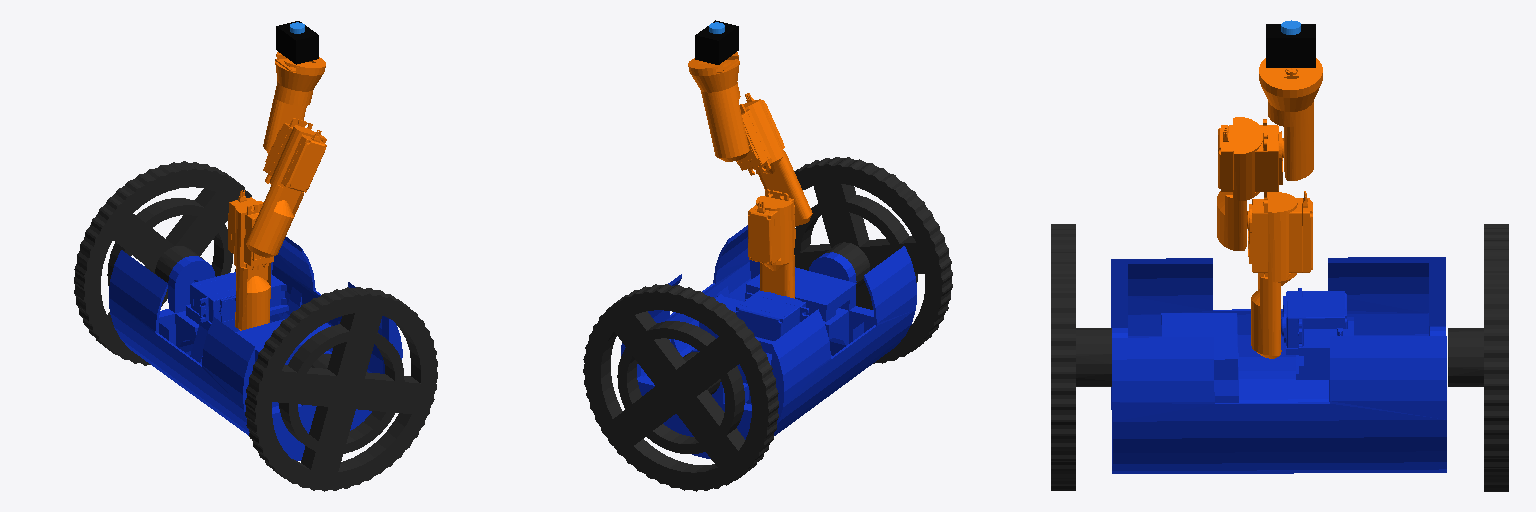
The robot description file, URDF, robot "Assem1":
<robot name="Assem1">

  <link name="base_link"/>

  <joint name="base_to_body" type="fixed">
    <parent link="base_link"/>
    <child link="body"/>
    <origin xyz="0 0 0.05" rpy="0 0 0"/>
  </joint>

  <!-- IMU link: aligned with base_link (x forward, y left, z up) so pitch = rotation about y -->
  <link name="imu_link"/>
  <joint name="base_to_imu" type="fixed">
    <parent link="base_link"/>
    <child link="imu_link"/>
    <origin xyz="0 0 0.05" rpy="0 0 0"/>
  </joint>

  <!-- body is UPRIGHT (CAD frame: z up, arm on top). Wheel axle at z 0.0815.
       Ballast / battery (INVISIBLE, mass only): 2 x 0.25 kg packs left and right of the arm, centre 20 cm up -> centre of mass
       5.2 cm ABOVE the axle and right above it in the camera pose (see robot_model.py) -->
  <link name="ballast_left">
    <inertial>
      <origin xyz="0 0 0" rpy="0 0 0"/>
      <mass value="0.25"/>
      <inertia ixx="0.0001724" ixy="0" ixz="0" iyy="0.0002537" iyz="0" izz="0.0001854"/>
    </inertial>
  </link>
  <joint name="base_to_ballast_left" type="fixed">
    <parent link="base_link"/>
    <child link="ballast_left"/>
    <origin xyz="-0.009 0.07 0.20" rpy="0 0 0"/>
  </joint>
  <link name="ballast_right">
    <inertial>
      <origin xyz="0 0 0" rpy="0 0 0"/>
      <mass value="0.25"/>
      <inertia ixx="0.0001724" ixy="0" ixz="0" iyy="0.0002537" iyz="0" izz="0.0001854"/>
    </inertial>
  </link>
  <joint name="base_to_ballast_right" type="fixed">
    <parent link="base_link"/>
    <child link="ballast_right"/>
    <origin xyz="-0.009 -0.07 0.20" rpy="0 0 0"/>
  </joint>

  <!-- ==================== BODY ==================== -->
  <link name="body">
    <inertial>
      <origin xyz="-0.00063 -3.188e-05 0.00754" rpy="0 0 0" />
      <mass value="0.5231" />
      <inertia
        ixx="0.002215" ixy="8.565e-06" ixz="-8.353e-06"
        iyy="0.000817" iyz="-6.060e-06" izz="0.002583" />
    </inertial>
    <visual>
      <origin xyz="0 0 0" rpy="0 0 0" />
      <geometry>
        <mesh filename="package://Assem1/meshes/body.STL" />
      </geometry>
      <material name="body_mat">
        <color rgba="0.1 0.25 0.85 1.0" />
      </material>
    </visual>
    <!-- bottom of the box raised from 7 cm to 4 cm below the axle (wheel radius 8 cm): the full mesh box
         hits the floor at ~9 deg lean and trips the robot. Now it only touches at ~50 deg. -->
    <collision>
      <origin xyz="-0.0007 0 0.03175" rpy="0 0 0" />
      <geometry>
        <box size="0.141 0.196 0.0805" />
      </geometry>
    </collision>
  </link>

  <!-- ==================== LEFT WHEEL ==================== -->
  <link name="left_wheel">
    <inertial>
      <origin xyz="0 0 -0.00895" rpy="0 0 0" />
      <mass value="0.2257" />
      <inertia
        ixx="0.000361" ixy="0" ixz="0"
        iyy="0.000361" iyz="0" izz="0.000702" />
    </inertial>
    <visual>
      <origin xyz="0 0 0" rpy="0 0 0" />
      <geometry>
        <mesh filename="package://Assem1/meshes/left_wheel.STL" />
      </geometry>
      <material name="left_wheel_mat">
        <color rgba="0.2 0.2 0.2 1.0" />
      </material>
    </visual>
    <collision>
      <origin xyz="0 0 -0.018" rpy="0 0 0" />
      <geometry>
        <cylinder radius="0.08" length="0.036" />
      </geometry>
    </collision>
  </link>

  <joint name="left_wheel-joint" type="continuous">
    <origin xyz="0 -0.1366 0.0315" rpy="1.5708 0 0" />
    <parent link="body" />
    <child link="left_wheel" />
    <axis xyz="0 0 -1" />
    <limit effort="20.0" velocity="40.0" />
    <dynamics damping="0.001" friction="0.0" />
  </joint>

  <!-- ==================== RIGHT WHEEL ==================== -->
  <link name="right_wheel">
    <inertial>
      <origin xyz="0 0 -0.00895" rpy="0 0 0" />
      <mass value="0.2257" />
      <inertia
        ixx="0.000361" ixy="0" ixz="0"
        iyy="0.000361" iyz="0" izz="0.000702" />
    </inertial>
    <visual>
      <origin xyz="0 0 0" rpy="0 0 0" />
      <geometry>
        <mesh filename="package://Assem1/meshes/right_wheel.STL" />
      </geometry>
      <material name="right_wheel_mat">
        <color rgba="0.2 0.2 0.2 1.0" />
      </material>
    </visual>
    <collision>
      <origin xyz="0 0 -0.018" rpy="0 0 0" />
      <geometry>
        <cylinder radius="0.08" length="0.036" />
      </geometry>
    </collision>
  </link>

  <joint name="right_wheel_joint" type="continuous">
    <origin xyz="0 0.1366 0.0315" rpy="-1.5708 0 0" />
    <parent link="body" />
    <child link="right_wheel" />
    <axis xyz="0 0 1" />
    <limit effort="20.0" velocity="40.0" />
    <dynamics damping="0.001" friction="0.0" />
  </joint>

  <!-- ==================== ACTIVE ARM (REVOLUTE) ==================== -->
  <link name="arm_link_1">
    <inertial>
      <origin xyz="0.00043 -0.00280 0.04227" rpy="0 0 0" />
      <mass value="0.0549" />
      <inertia
        ixx="2.346e-05" ixy="0" ixz="0"
        iyy="2.167e-05" iyz="-1.423e-06" izz="6.846e-06" />
    </inertial>
    <visual>
      <origin xyz="0 0 0" rpy="0 0 0" />
      <geometry>
        <mesh filename="package://Assem1/meshes/arm_link_1.STL" />
      </geometry>
      <material name="arm_mat1">
        <color rgba="1.0 0.5 0.05 1.0" />
      </material>
    </visual>
  </link>

  <joint name="link1" type="revolute">
    <origin xyz="-0.0047285 0.00080999 0.049815" rpy="0 0 0" />
    <parent link="body" />
    <child link="arm_link_1" />
    <axis xyz="0.0065584 -0.99997 -0.0030051" />
    <limit lower="-1.57" upper="1.57" effort="5.0" velocity="4.0" />
    <dynamics damping="0.1" friction="0.05" />
  </joint>

  <link name="arm_link_2">
    <inertial>
      <origin xyz="0.01828 -0.00142 0.03751" rpy="0 0 0" />
      <mass value="0.0549" />
      <inertia
        ixx="2.012e-05" ixy="-6.781e-07" ixz="-6.665e-06"
        iyy="2.166e-05" iyz="-1.377e-06" izz="1.020e-05" />
    </inertial>
    <visual>
      <origin xyz="0 0 0" rpy="0 0 0" />
      <geometry>
        <mesh filename="package://Assem1/meshes/arm_link_2.STL" />
      </geometry>
      <material name="arm_mat2">
        <color rgba="1.0 0.5 0.05 1.0" />
      </material>
    </visual>
  </link>

  <joint name="link2" type="revolute">
    <origin xyz="0.0016571 -0.020702 0.070511" rpy="0 0 0" />
    <parent link="arm_link_1" />
    <child link="arm_link_2" />
    <axis xyz="0.0065584 -0.99997 -0.0030051" />
    <limit lower="-1.57" upper="1.57" effort="5.0" velocity="4.0" />
    <dynamics damping="0.1" friction="0.05" />
  </joint>

  <link name="arm_link_3">
    <inertial>
      <origin xyz="0.00815 0.00521 0.02824" rpy="0 0 0" />
      <mass value="0.0375" />
      <inertia
        ixx="1.893e-05" ixy="4.182e-07" ixz="-4.053e-06"
        iyy="2.032e-05" iyz="1.537e-06" izz="5.789e-06" />
    </inertial>
    <visual>
      <origin xyz="0 0 0" rpy="0 0 0" />
      <geometry>
        <mesh filename="package://Assem1/meshes/arm_link_3.STL" />
      </geometry>
      <material name="arm_mat3">
        <color rgba="1.0 0.5 0.05 1.0" />
      </material>
    </visual>
  </link>

  <joint name="link3" type="revolute">
    <origin xyz="0.031019 0.022517 0.062295" rpy="0 0 0" />
    <parent link="arm_link_2" />
    <child link="arm_link_3" />
    <axis xyz="-0.0065584 0.99997 0.0030051" />
    <limit lower="-1.57" upper="1.57" effort="3.0" velocity="4.0" />
    <dynamics damping="0.05" friction="0.02" />
  </joint>

  <!-- ==================== END-EFFECTOR CAMERA ==================== -->
  <!-- camera_link sits on the tip of arm_link_3 (mesh top: x 0.012, y 0.004, z 0.063) and looks along the
       link's +z axis (= the direction the end effector points; forward in the ARM_HOME camera pose).
       Gazebo cameras look along their +x, so pitch -90 deg maps camera x -> link z, and camera "up" -> robot up.
       Massless on purpose (lumped like imu_link): the trained balance policy stays valid. -->
  <link name="camera_link">
    <visual>
      <origin xyz="-0.01 0 0" rpy="0 0 0" />
      <geometry>
        <box size="0.02 0.03 0.02" />
      </geometry>
      <material name="camera_mat">
        <color rgba="0.05 0.05 0.05 1.0" />
      </material>
    </visual>
    <visual>
      <origin xyz="0.002 0 0" rpy="0 1.5708 0" />
      <geometry>
        <cylinder radius="0.006" length="0.004" />
      </geometry>
      <material name="lens_mat">
        <color rgba="0.2 0.6 1.0 1.0" />
      </material>
    </visual>
  </link>
  <joint name="arm_link_3_to_camera" type="fixed">
    <parent link="arm_link_3" />
    <child link="camera_link" />
    <origin xyz="0.012 0.004 0.083" rpy="0 -1.5708 0" />
  </joint>

  <!-- ROS optical frame convention (z forward, x right, y down) for the image header -->
  <link name="camera_optical_frame"/>
  <joint name="camera_to_optical" type="fixed">
    <parent link="camera_link" />
    <child link="camera_optical_frame" />
    <origin xyz="0 0 0" rpy="-1.5708 0 -1.5708" />
  </joint>

  <!-- ==================== GAZEBO PHYSICS ==================== -->
  <gazebo reference="body">
    <material>Gazebo/Blue</material>
  </gazebo>
  <gazebo reference="arm_link_1"><material>Gazebo/Orange</material></gazebo>
  <gazebo reference="arm_link_2"><material>Gazebo/Orange</material></gazebo>
  <gazebo reference="arm_link_3"><material>Gazebo/Orange</material></gazebo>

  <gazebo reference="left_wheel">
    <mu1>1.2</mu1>
    <mu2>1.2</mu2>
    <kp>200000.0</kp>
    <kd>10.0</kd>
    <minDepth>0.001</minDepth>
    <material>Gazebo/FlatBlack</material>
  </gazebo>

  <gazebo reference="right_wheel">
    <mu1>1.2</mu1>
    <mu2>1.2</mu2>
    <kp>200000.0</kp>
    <kd>10.0</kd>
    <minDepth>0.001</minDepth>
    <material>Gazebo/FlatBlack</material>
  </gazebo>

  

  <!-- IMU Sensor (on imu_link, aligned with base_link) -->
  <gazebo reference="imu_link">
    <sensor name="imu_sensor" type="imu">
      <always_on>true</always_on>
      <update_rate>100</update_rate>
      <visualize>false</visualize>
      <topic>imu/data</topic>
      <plugin filename="libgazebo_ros_imu_sensor.dylib" name="imu_plugin">
        <ros>
          <namespace>/</namespace>
          <remapping>~/out:=imu/data</remapping>
        </ros>
        <initial_orientation_as_reference>false</initial_orientation_as_reference>
      </plugin>
    </sensor>
  </gazebo>

  <!-- Camera on the end effector: /arm_camera/image_raw + /arm_camera/camera_info (640x480, 30 Hz, 80 deg FOV) -->
  <gazebo reference="camera_link">
    <material>Gazebo/Black</material>
    <sensor name="arm_camera" type="camera">
      <always_on>true</always_on>
      <update_rate>30</update_rate>
      <visualize>true</visualize>
      <camera name="arm_camera">
        <horizontal_fov>1.396</horizontal_fov>
        <image>
          <width>640</width>
          <height>480</height>
          <format>R8G8B8</format>
        </image>
        <clip>
          <near>0.01</near>
          <far>50</far>
        </clip>
        <noise>
          <type>gaussian</type>
          <mean>0.0</mean>
          <stddev>0.005</stddev>
        </noise>
      </camera>
      <plugin name="arm_camera_controller" filename="libgazebo_ros_camera.dylib">
        <ros>
          <namespace>/</namespace>
        </ros>
        <camera_name>arm_camera</camera_name>
        <frame_name>camera_optical_frame</frame_name>
      </plugin>
    </sensor>
  </gazebo>

  <!-- Wheel Differential Drive Plugin
       FIXED: wheel_diameter 0.16 (was 0.10), no acceleration limit (was 10 rad/s^2 = 0.8 m/s^2: far too weak
       to catch a falling robot), update rate 100 Hz -->
  <gazebo>
    <plugin name="differential_drive_controller" filename="libgazebo_ros_diff_drive.dylib">
      <update_rate>100</update_rate>
      <left_joint>left_wheel-joint</left_joint>
      <right_joint>right_wheel_joint</right_joint>
      <wheel_separation>0.2732</wheel_separation>
      <wheel_diameter>0.16</wheel_diameter>
      <max_wheel_torque>20.0</max_wheel_torque>
      <max_wheel_acceleration>0.0</max_wheel_acceleration>
      <command_topic>cmd_vel</command_topic>
      <publish_odom>true</publish_odom>
      <publish_odom_tf>false</publish_odom_tf>
      <publish_wheel_tf>false</publish_wheel_tf>
      <odometry_topic>odom</odometry_topic>
      <odometry_frame>odom</odometry_frame>
      <robot_base_frame>base_link</robot_base_frame>
    </plugin>
  </gazebo>

  <!-- ARM: ros2_control position interface (moves ONLY the arm joints), topic /arm_controller/commands.
       (position_pid is listed by gazebo_ros2_control 0.4.10 but its controller switch is rejected.)
       FIXED: the old libgazebo_ros_joint_pose_trajectory plugin TELEPORTED the whole model (SetWorldPose)
       on every arm command -> robot frozen at pitch 0, physics went NaN, balancing impossible. -->
  <ros2_control name="ArmSystem" type="system">
    <hardware>
      <plugin>gazebo_ros2_control/GazeboSystem</plugin>
    </hardware>
    <joint name="link1">
      <command_interface name="position"/>
      <state_interface name="position"><param name="initial_value">0.0</param></state_interface>
      <state_interface name="velocity"/>
    </joint>
    <joint name="link2">
      <command_interface name="position"/>
      <state_interface name="position"><param name="initial_value">-0.6</param></state_interface>
      <state_interface name="velocity"/>
    </joint>
    <joint name="link3">
      <command_interface name="position"/>
      <state_interface name="position"><param name="initial_value">0.97</param></state_interface>
      <state_interface name="velocity"/>
    </joint>
  </ros2_control>

  <gazebo>
    <plugin name="gazebo_ros2_control" filename="libgazebo_ros2_control.dylib">
      <parameters>ASSEM1_CONFIG_DIR/arm_controllers.yaml</parameters>
    </plugin>
  </gazebo>

</robot>

--- Facts derived from the render (not from the file) ---
Views: 3 orthographic renders of the robot side by side, from view 1: azimuth 30°, elevation 25°; view 2: azimuth 150°, elevation 25°; view 3: azimuth 270°, elevation 25°.
Robot: Assem1 — 12 links, 11 joints (3 revolute, 2 continuous, 6 fixed); root link base_link; default pose: every joint at zero.
Links seen in each view (by area): view 1: left_wheel, body, right_wheel, arm_link_2, arm_link_1, arm_link_3, camera_link; view 2: right_wheel, body, left_wheel, arm_link_1, arm_link_2, arm_link_3, camera_link; view 3: body, right_wheel, left_wheel, arm_link_1, arm_link_2, arm_link_3, camera_link.
Boxes of the visible links, box(x1,y1,x2,y2) form: left_wheel: box(245, 287, 437, 491); body: box(109, 237, 402, 460); right_wheel: box(74, 161, 251, 365); arm_link_2: box(246, 118, 326, 257); arm_link_1: box(228, 190, 273, 330); arm_link_3: box(263, 52, 325, 153); camera_link: box(276, 21, 318, 64); right_wheel: box(583, 284, 778, 491); body: box(621, 225, 916, 458); left_wheel: box(794, 157, 952, 363); arm_link_1: box(748, 189, 795, 298); arm_link_2: box(736, 93, 812, 226); arm_link_3: box(688, 52, 749, 161); camera_link: box(695, 20, 738, 64); body: box(1111, 257, 1446, 473); right_wheel: box(1448, 224, 1508, 491); left_wheel: box(1051, 224, 1111, 490); arm_link_1: box(1247, 191, 1312, 358); arm_link_2: box(1217, 117, 1283, 250); arm_link_3: box(1259, 58, 1322, 180); camera_link: box(1266, 20, 1315, 67).
Size in the robot's own frame: 0.16 by 0.2732 by 0.3181 metres.
6 mesh visuals loaded from 6 distinct referenced files (6 binary STL).
